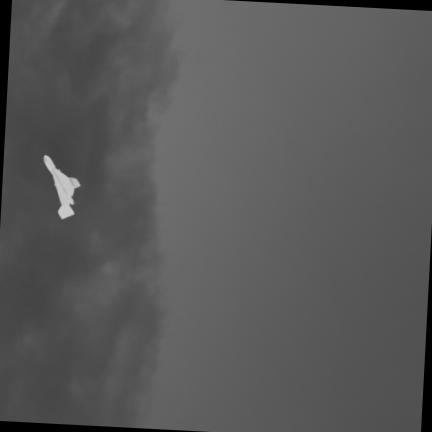Shahed: (44, 156, 80, 219)
